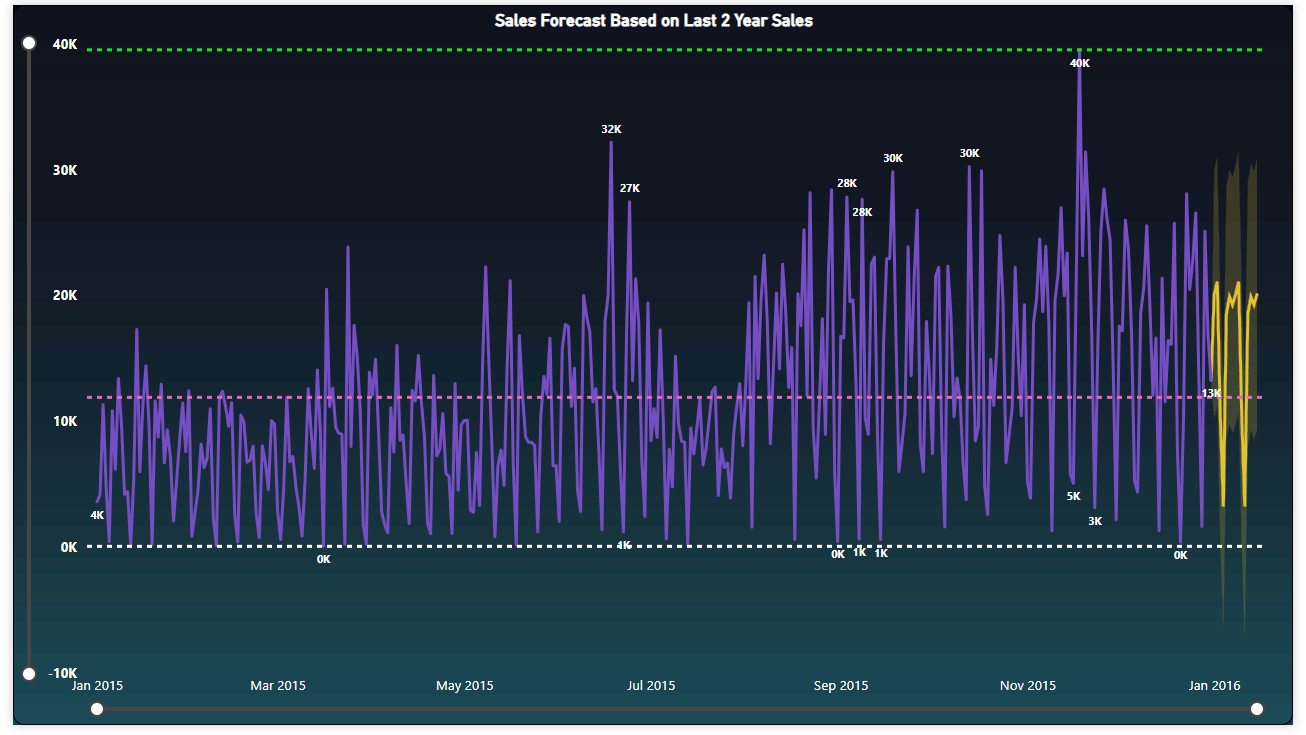

The page's visual inventory and layout, read from the dashboard file:
{"tool":"powerbi","page":{"name":"Forecast ","canvas":[1280,720],"ordinal":1},"visuals":[{"type":"lineChart","title":"Sales Forecast Based on Last 2 Year Sales","fields":{"Y":["Sum(Orders.Sales)"],"Category":["Orders.Order Date"]},"box":[0,0,1280,719.8],"z":0}]}

Visuals, with their boxes in screenshot pixels (x1, y1, x2, y2), scaled from the page's 1280x720 canvas onto the 1306x735 screenshot:
"Sales Forecast Based on Last 2 Year Sales" lineChart: <region>0, 0, 1305, 734</region>
